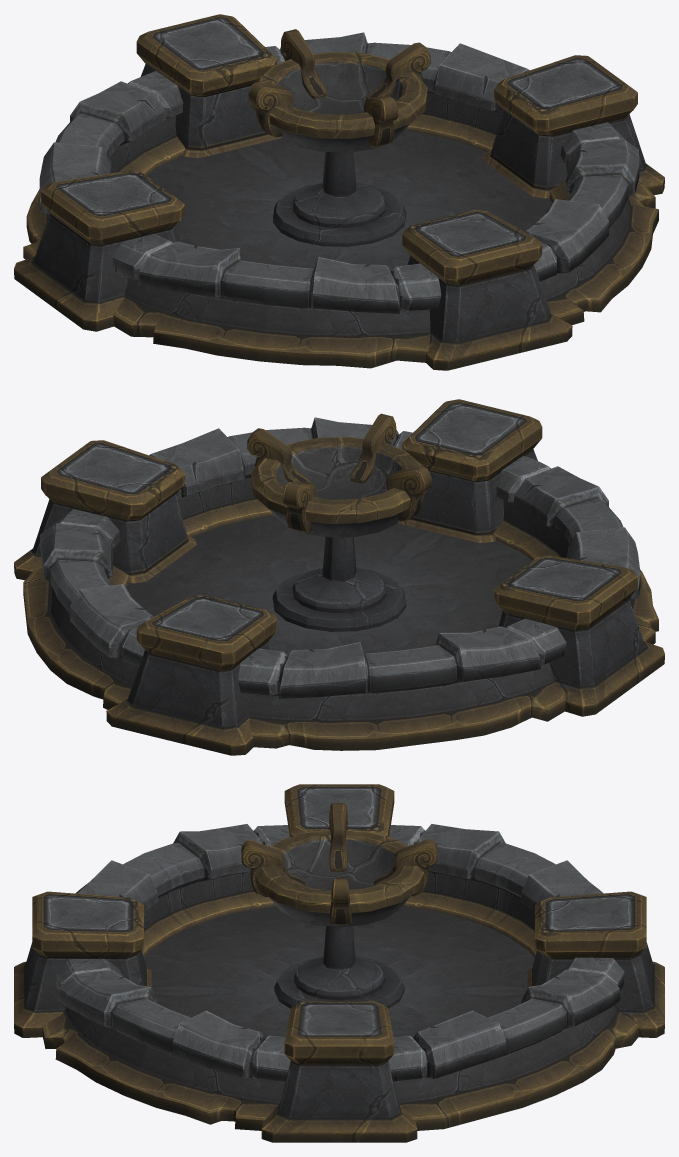
File: Storm_Doodad_KingsCrest_Fountain_00.obj
3 views of the same model, one above another, from view 1: azimuth 30°, elevation 25°; view 2: azimuth 150°, elevation 25°; view 3: azimuth 270°, elevation 25° (orthographic). The views are drawn at different scales.
Parts seen in each view (by area): view 1: Mesh_1; view 2: Mesh_1; view 3: Mesh_1.
Part boxes in pixels (x1,y1,x2,y2): Mesh_1: (14, 14, 664, 370); Mesh_1: (14, 399, 664, 755); Mesh_1: (14, 784, 664, 1142).
Bounding box in the file's own units: 521 × 152 × 521.
1 material, 1 textured.
